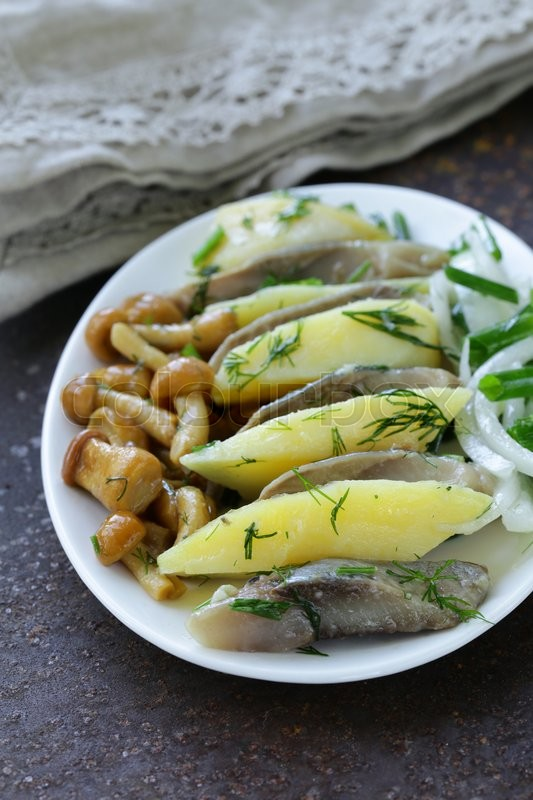boiled potatoes: (161, 480, 490, 577), (194, 387, 474, 485), (217, 304, 436, 400)
